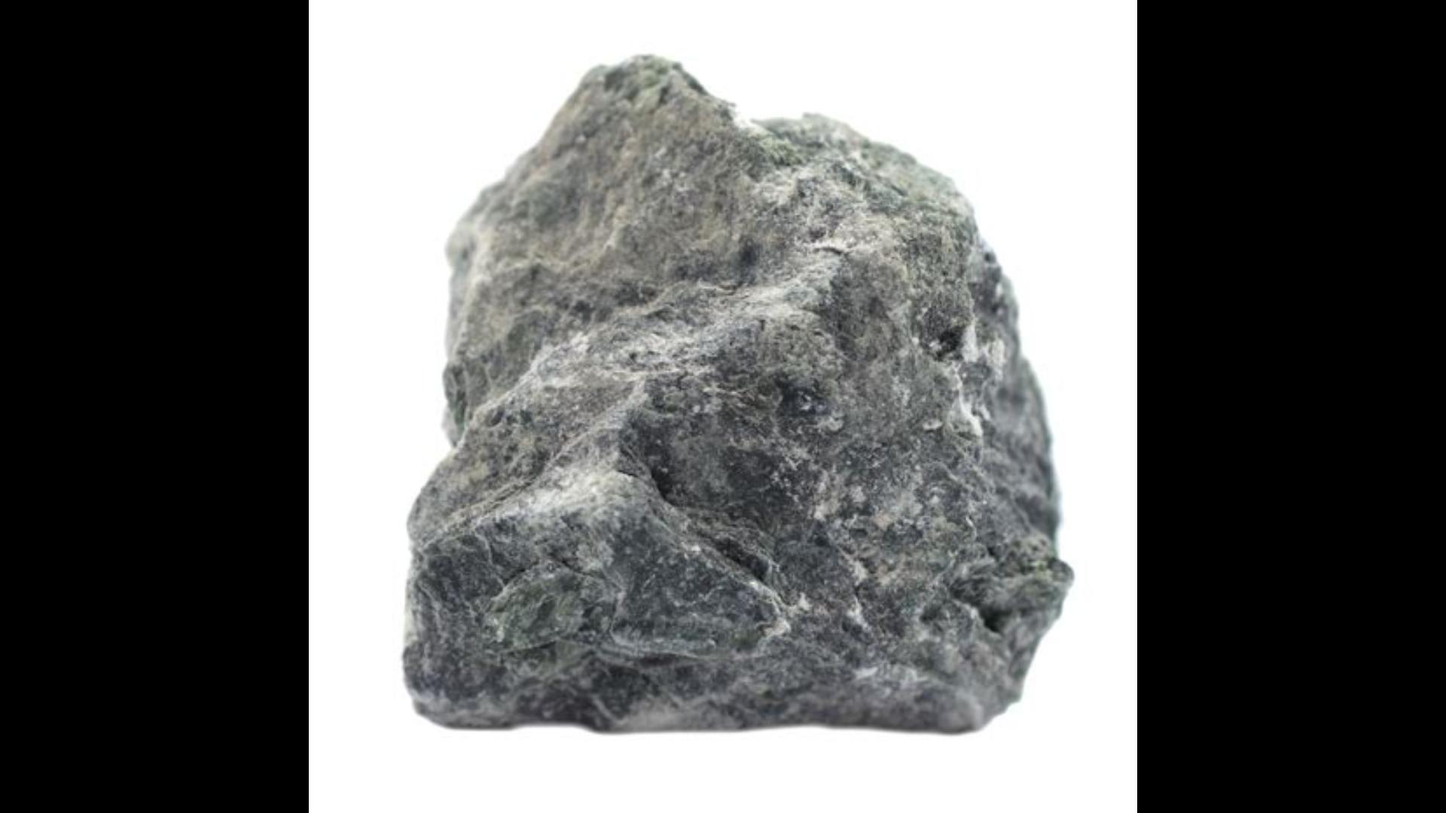rock: (408, 63, 1071, 727)
